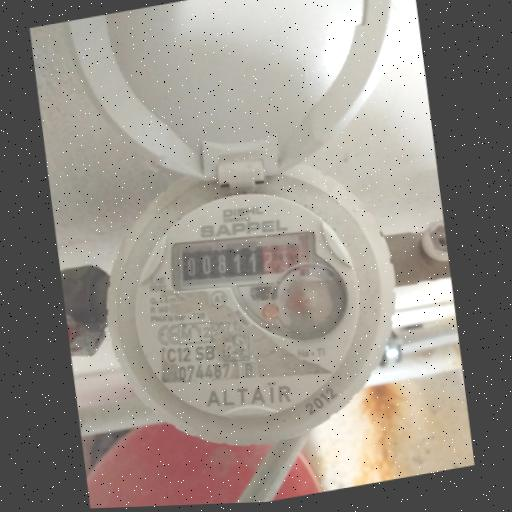0: (196, 248, 218, 282), (181, 250, 203, 283)
1: (241, 245, 265, 278), (227, 246, 249, 278)
2: (257, 244, 279, 276)
5: (288, 233, 312, 268), (273, 243, 295, 275)
8: (210, 248, 234, 281)
border_water_meter_number: (165, 219, 323, 306)
